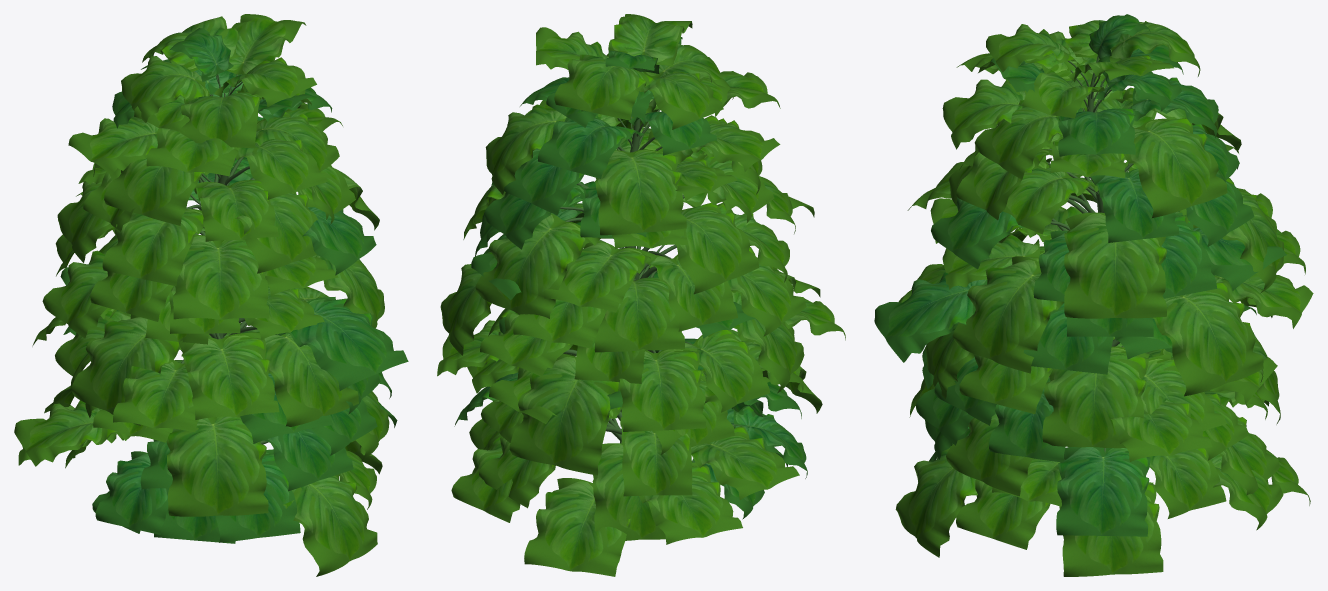
3 renders of one model, left to right at view 1: azimuth 30°, elevation 25°; view 2: azimuth 150°, elevation 25°; view 3: azimuth 270°, elevation 25°, orthographic. The views are drawn at different scales.
Visible parts, largest first — view 1: Monsterra_Deliciosa_v01 preview; view 2: Monsterra_Deliciosa_v01 preview; view 3: Monsterra_Deliciosa_v01 preview.
Boxes of the visible parts, <box> form: Monsterra_Deliciosa_v01 preview: <box>14,14,408,576</box>; Monsterra_Deliciosa_v01 preview: <box>437,14,845,576</box>; Monsterra_Deliciosa_v01 preview: <box>874,14,1313,576</box>.
Bounding box in the file's own units: 16.18 × 21.17 × 16.75.
Materials: 3 (2 with a texture image).
